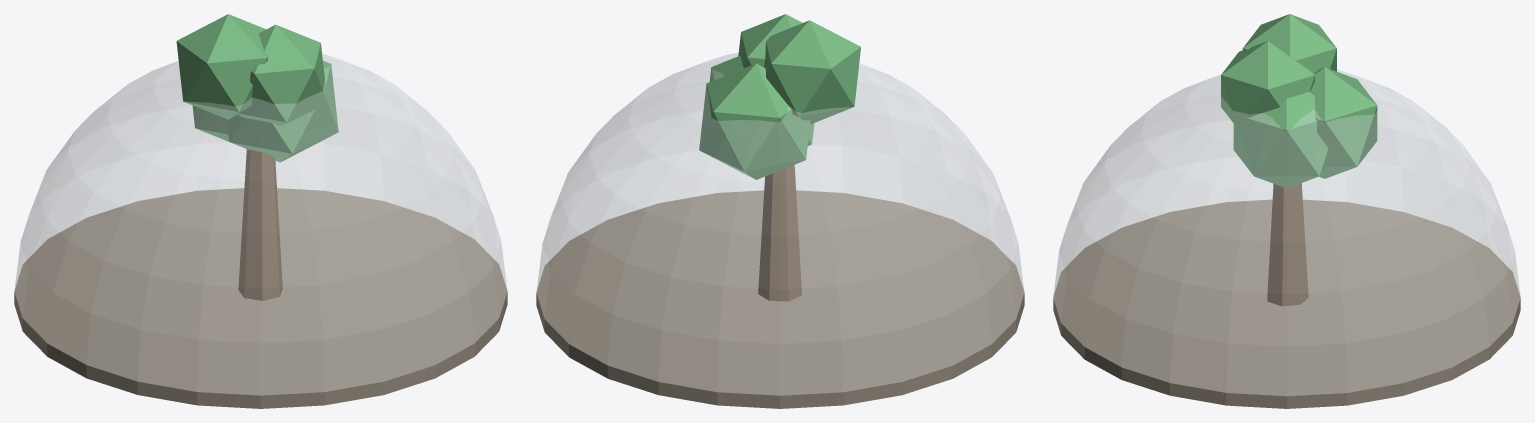
The model's file is haemus.glb.
3 renders of one model, left to right at view 1: azimuth 30°, elevation 25°; view 2: azimuth 150°, elevation 25°; view 3: azimuth 270°, elevation 25°, orthographic. The views are drawn at different scales.
Parts seen in each view (by area): view 1: Dome_Glass, Dome_Base, Tree_Foliage, Tree_Trunk; view 2: Dome_Glass, Dome_Base, Tree_Foliage, Tree_Trunk; view 3: Dome_Glass, Dome_Base, Tree_Foliage, Tree_Trunk.
Part boxes in pixels (bbox=[...]): Dome_Glass: bbox=[15, 53, 506, 395]; Dome_Base: bbox=[14, 188, 507, 408]; Tree_Foliage: bbox=[176, 14, 338, 162]; Tree_Trunk: bbox=[238, 149, 282, 300]; Dome_Glass: bbox=[536, 53, 1024, 395]; Dome_Base: bbox=[536, 190, 1024, 408]; Tree_Foliage: bbox=[699, 14, 860, 179]; Tree_Trunk: bbox=[758, 165, 801, 301]; Dome_Glass: bbox=[1053, 69, 1520, 395]; Dome_Base: bbox=[1053, 199, 1520, 408]; Tree_Foliage: bbox=[1221, 14, 1377, 188]; Tree_Trunk: bbox=[1267, 183, 1308, 306].
Size of the model in its own units: 2.68 by 1.78 by 2.68.
